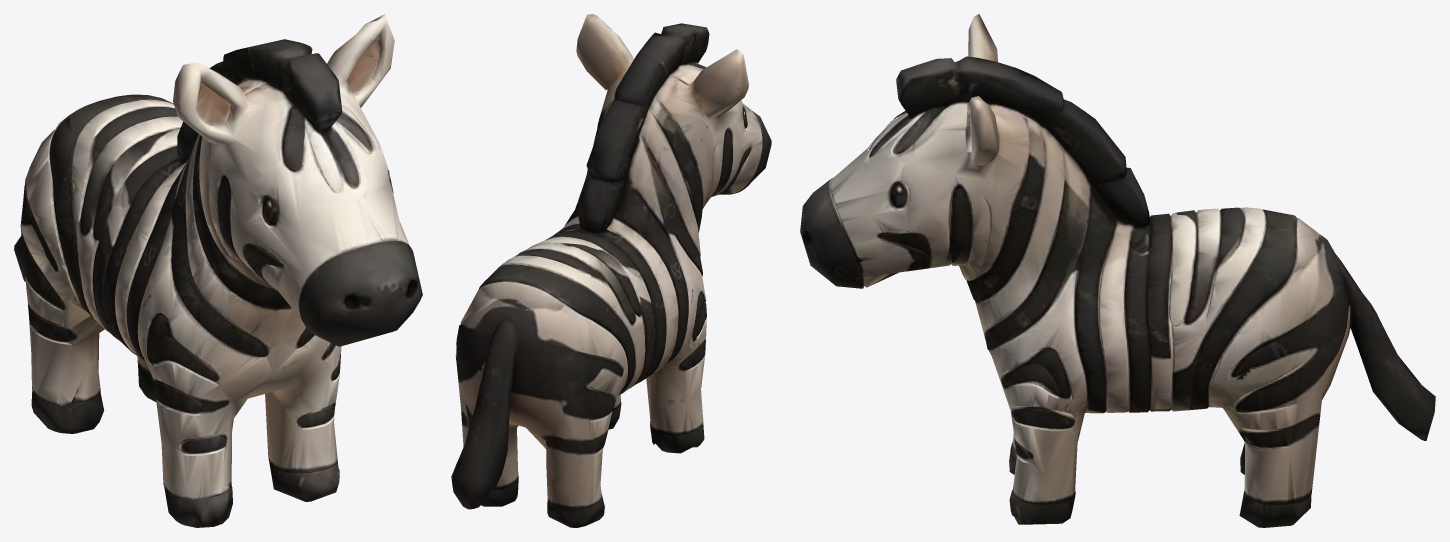
Rendered from zebra_pbr.glb.
The picture shows the model from 3 angles, left to right: view 1: azimuth 30°, elevation 25°; view 2: azimuth 150°, elevation 25°; view 3: azimuth 270°, elevation 25°; orthographic projection. The views are drawn at different scales.
Parts seen in each view (by area): view 1: model; view 2: model; view 3: model.
Boxes of the visible parts, bbox=[...] form: model: bbox=[14, 14, 422, 527]; model: bbox=[451, 14, 771, 527]; model: bbox=[800, 14, 1435, 527].
Size of the model in its own units: 0.6194 by 1.35 by 1.78.
Materials: 1 (1 with a texture image).
